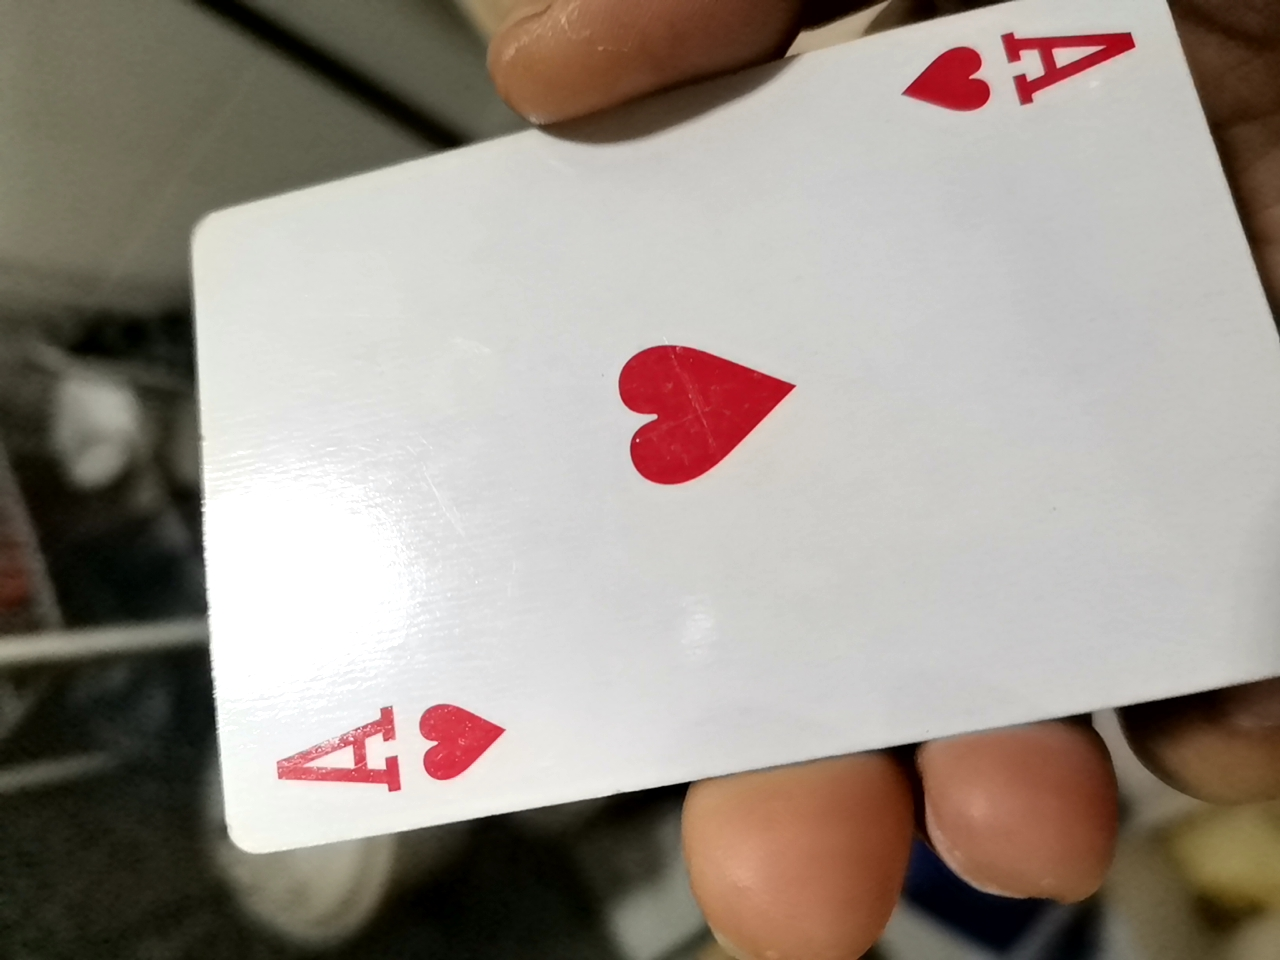hx a: (177, 13, 1266, 839)
